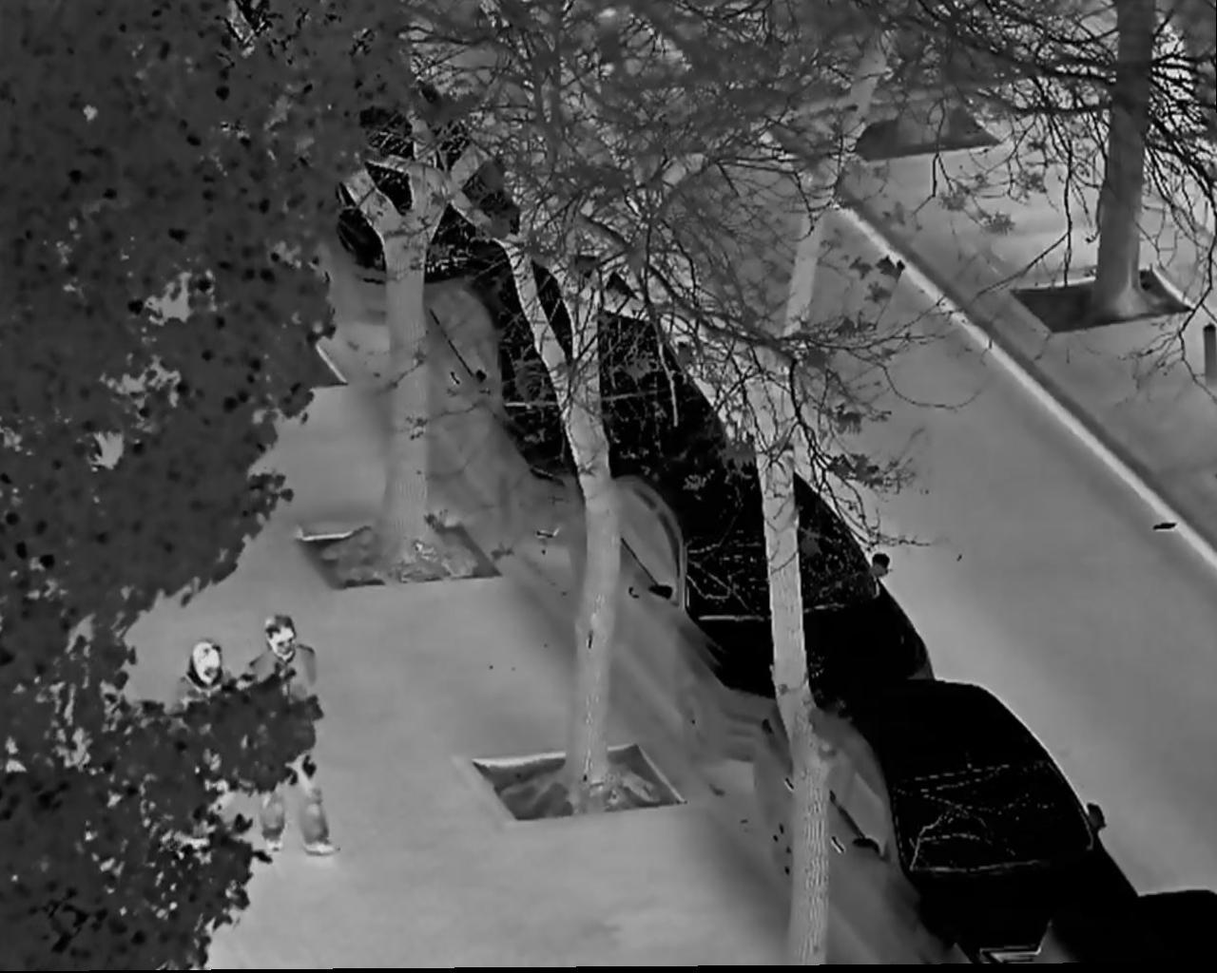person: (247, 610, 338, 855), (171, 640, 244, 861)
